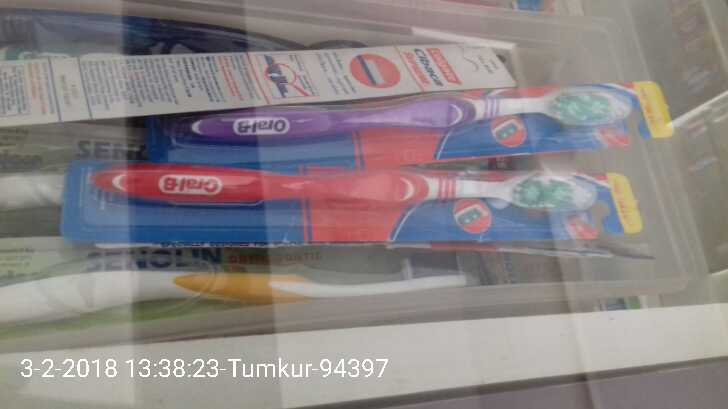oralb: (82, 151, 601, 236), (171, 84, 642, 146)
